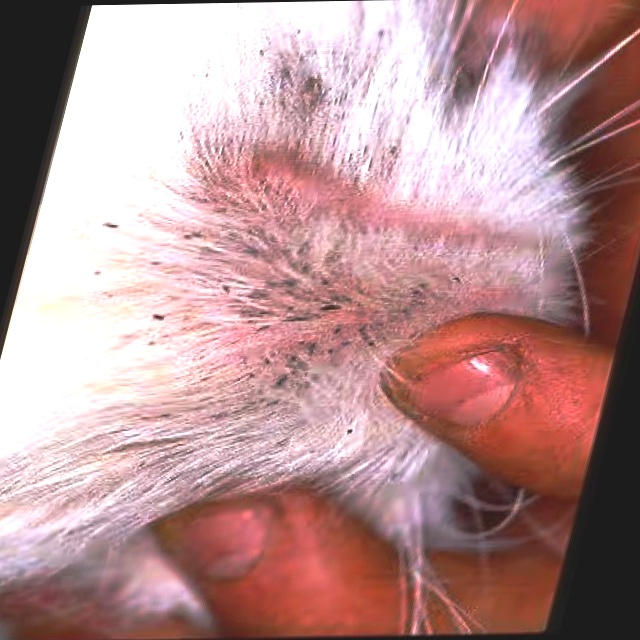acne: (62, 209, 501, 355)
